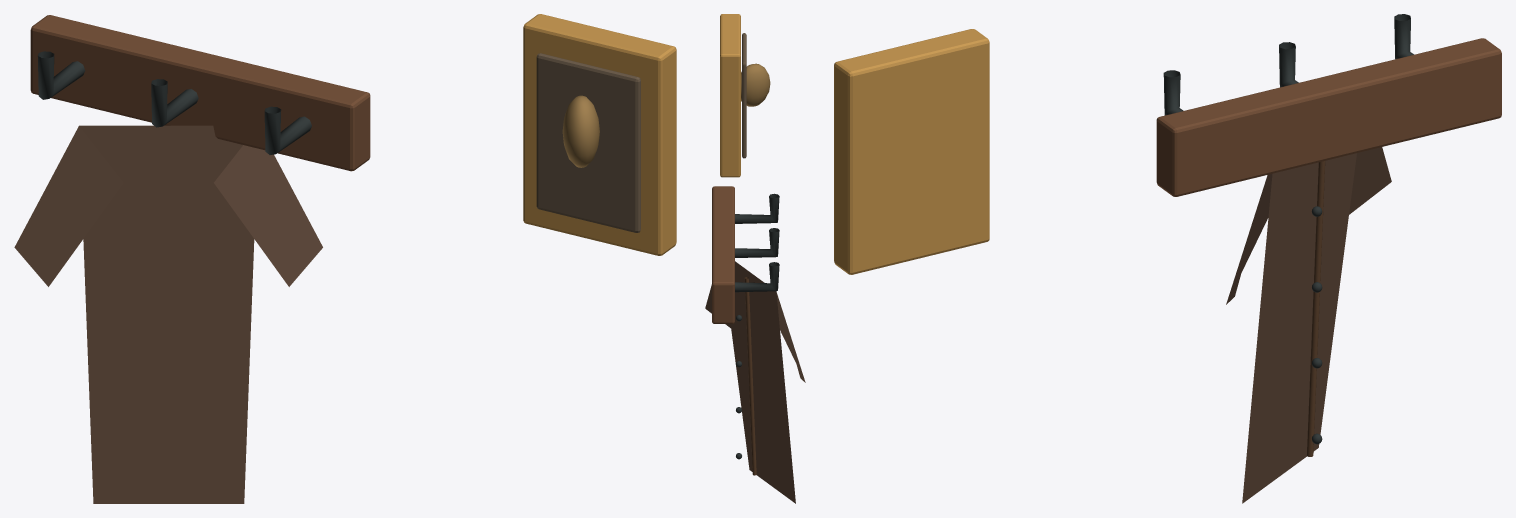
File: SM_CP_CrimeCoatAndIcon.fbx
3 renders of one model, left to right at view 1: azimuth 30°, elevation 25°; view 2: azimuth 150°, elevation 25°; view 3: azimuth 270°, elevation 25°, orthographic. The views are drawn at different scales.
Parts seen in each view (by area): view 1: SM_CP_CrimeCoatAndIcon; view 2: SM_CP_CrimeCoatAndIcon; view 3: SM_CP_CrimeCoatAndIcon.
Part boxes in pixels (<box>): SM_CP_CrimeCoatAndIcon: <box>14,14,676,503</box>; SM_CP_CrimeCoatAndIcon: <box>705,14,805,503</box>; SM_CP_CrimeCoatAndIcon: <box>834,14,1501,503</box>.
Bounding box in the file's own units: 122 × 176 × 160.
